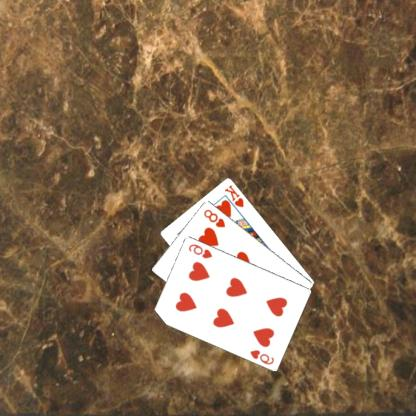6H: (188, 240, 216, 260), (249, 347, 277, 366)
8H: (202, 206, 228, 229)
KH: (224, 182, 247, 209)
